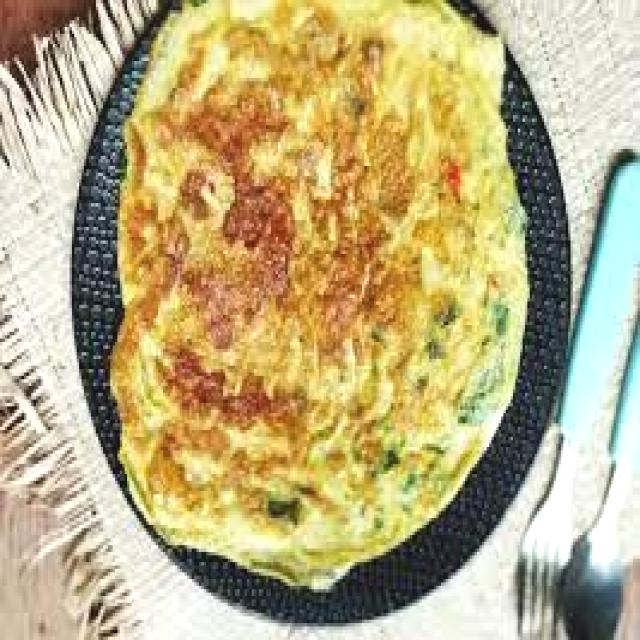telur dadar: (108, 0, 530, 582)
